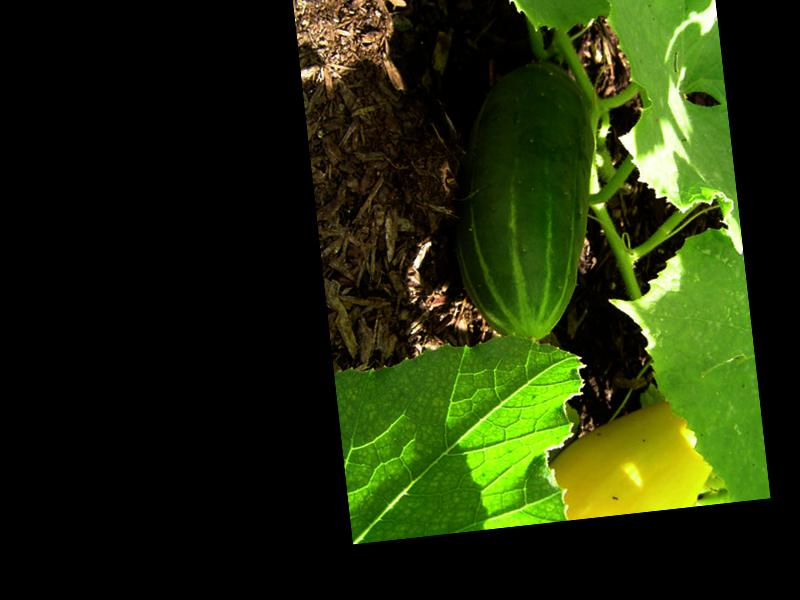Cucumber: (434, 55, 616, 349)
